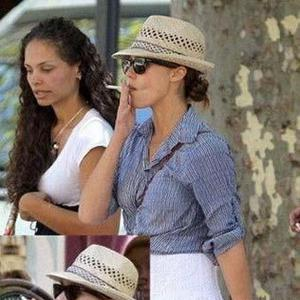cigarette: (105, 84, 123, 89)
